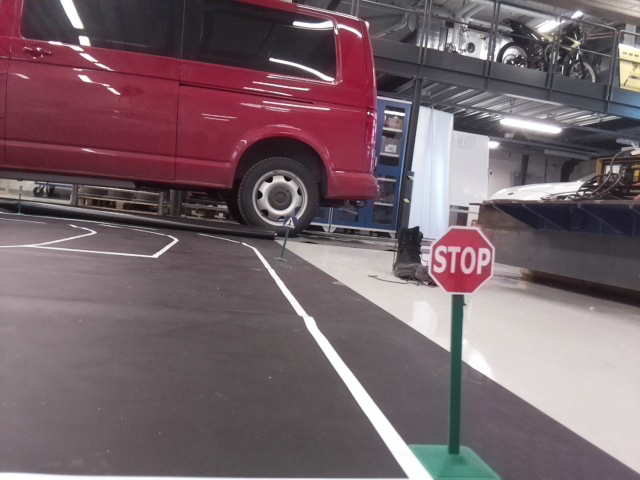Stop: (429, 223, 494, 296)
